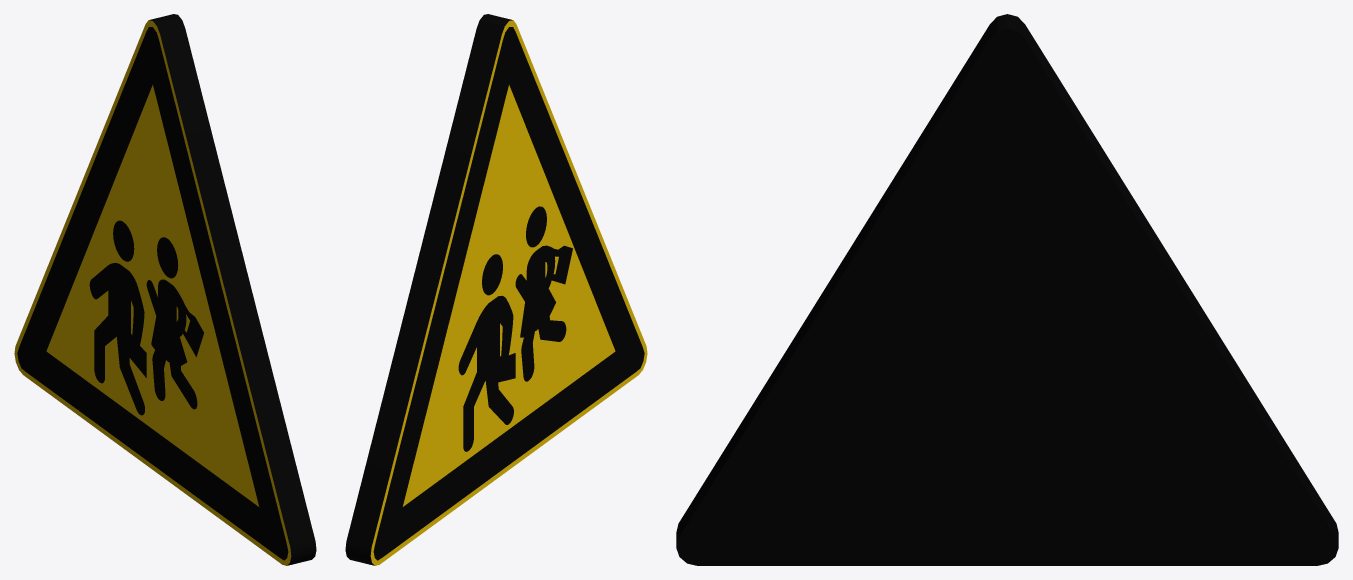
Rendered from Pay_Attention_To_Children.fbx.
3 renders of one model, left to right at view 1: azimuth 30°, elevation 25°; view 2: azimuth 150°, elevation 25°; view 3: azimuth 270°, elevation 25°, orthographic. The views are drawn at different scales.
Visible parts, largest first — view 1: Pay_Attention_To_Children; view 2: Pay_Attention_To_Children; view 3: Pay_Attention_To_Children.
Boxes of the visible parts, left/top/right/bottom form: Pay_Attention_To_Children: left=14, top=14, right=316, bottom=565; Pay_Attention_To_Children: left=345, top=14, right=647, bottom=565; Pay_Attention_To_Children: left=676, top=14, right=1338, bottom=565.
Size of the model in its own units: 0.075 by 1.02 by 1.14.
